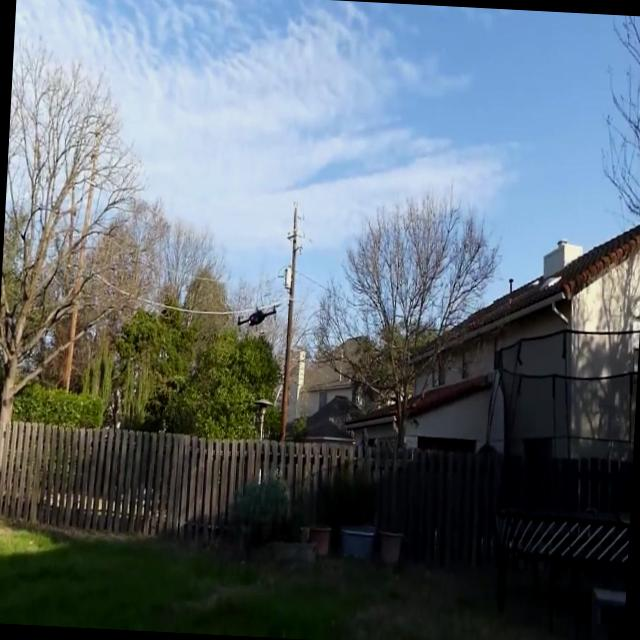drone: (234, 298, 280, 343)
